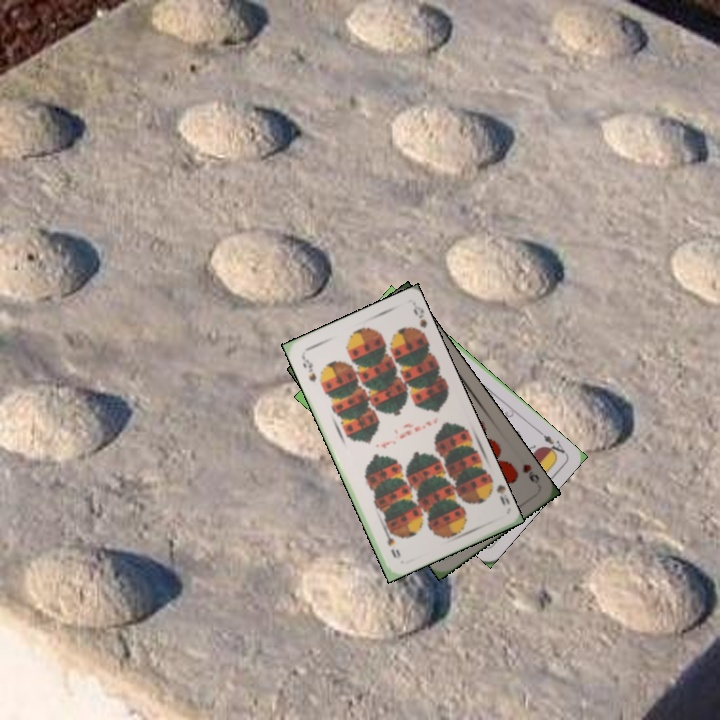EA: (534, 426, 569, 459)
H9: (518, 460, 542, 486)
S9: (481, 474, 511, 508), (298, 352, 319, 384)
